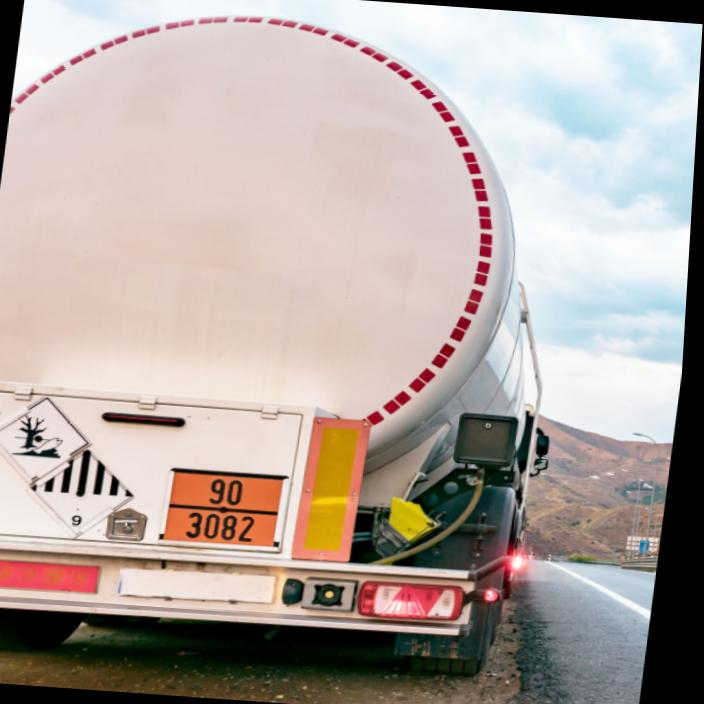elevator doors: (28, 450, 130, 536)
